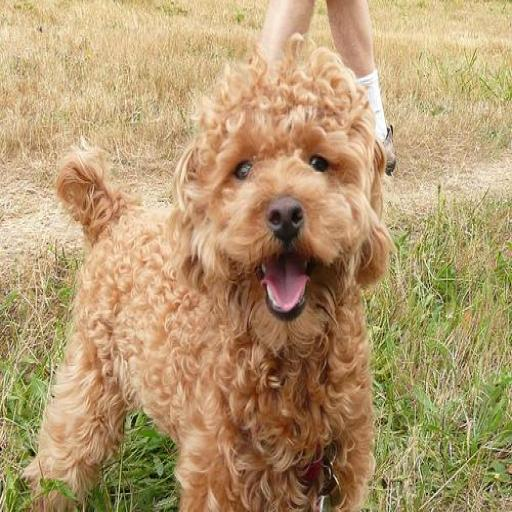dog_face: (180, 65, 390, 324)
